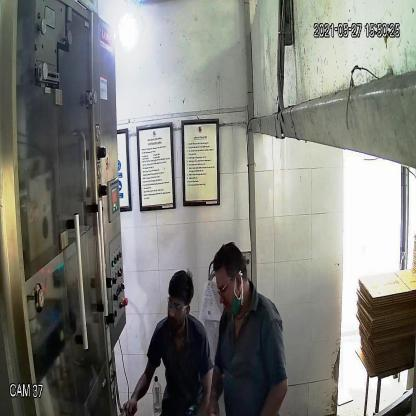goggles: (214, 274, 244, 296), (165, 294, 190, 315)
